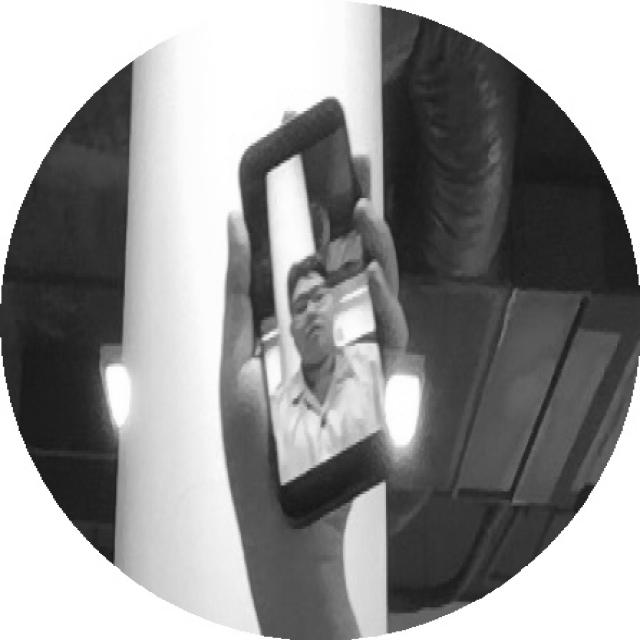fake: (201, 93, 451, 539), (222, 91, 419, 533)
